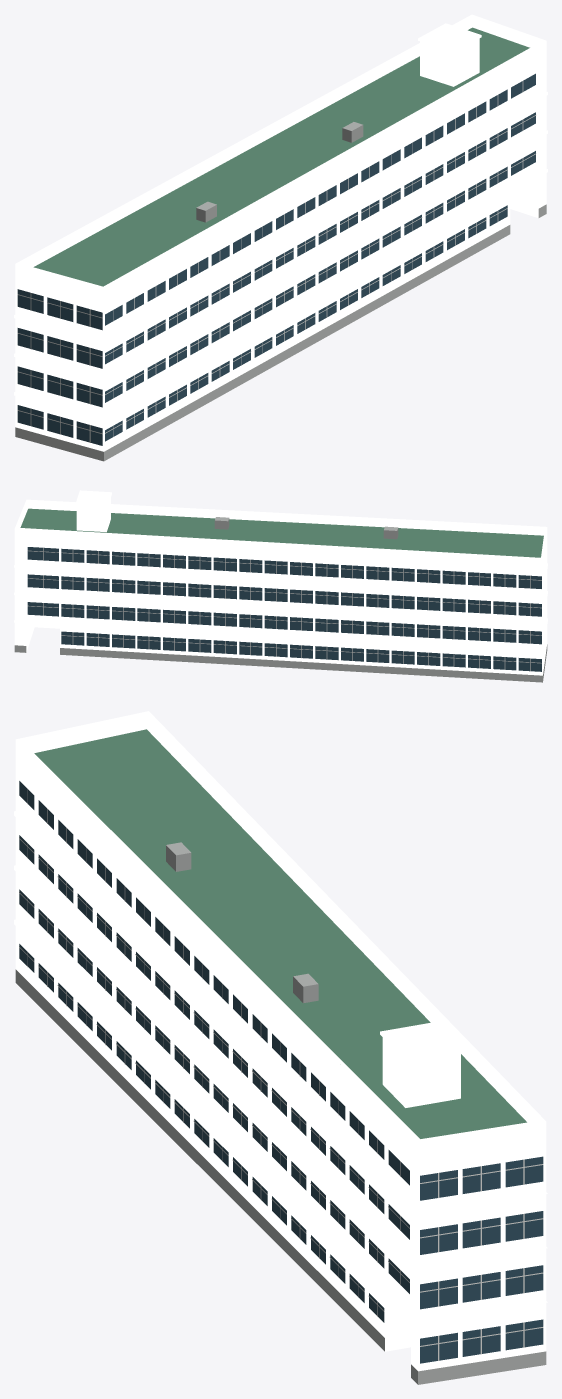
3 views of the same model, one above another, from view 1: azimuth 30°, elevation 25°; view 2: azimuth 150°, elevation 25°; view 3: azimuth 270°, elevation 25° (orthographic). The views are drawn at different scales.
Parts seen in each view (by area): view 1: hall__wall-plaster, hall__glass, hall__trim-concrete, hall__roof, hall__base-stone, hall__frame, hall__equipment; view 2: hall__wall-plaster, hall__glass, hall__trim-concrete, hall__roof, hall__base-stone, hall__frame, hall__equipment; view 3: hall__wall-plaster, hall__roof, hall__trim-concrete, hall__glass, hall__base-stone, hall__frame, hall__equipment.
Boxes of the visible parts, <box> form: hall__wall-plaster: <box>15,38,546,451</box>; hall__glass: <box>17,73,535,445</box>; hall__trim-concrete: <box>14,14,547,446</box>; hall__roof: <box>33,27,529,286</box>; hall__base-stone: <box>15,204,546,461</box>; hall__frame: <box>17,81,536,442</box>; hall__equipment: <box>196,122,363,222</box>; hall__wall-plaster: <box>14,498,547,675</box>; hall__glass: <box>27,547,541,671</box>; hall__trim-concrete: <box>14,490,547,672</box>; hall__roof: <box>20,508,543,557</box>; hall__base-stone: <box>14,644,547,682</box>; hall__frame: <box>28,547,541,671</box>; hall__equipment: <box>214,517,398,539</box>; hall__wall-plaster: <box>15,739,546,1371</box>; hall__roof: <box>34,729,526,1138</box>; hall__trim-concrete: <box>14,711,547,1364</box>; hall__glass: <box>19,781,543,1363</box>; hall__base-stone: <box>15,969,546,1384</box>; hall__frame: <box>19,789,543,1360</box>; hall__equipment: <box>166,842,318,1003</box>.
Size of the model in its own units: 61.41 by 18.6 by 32.09.
